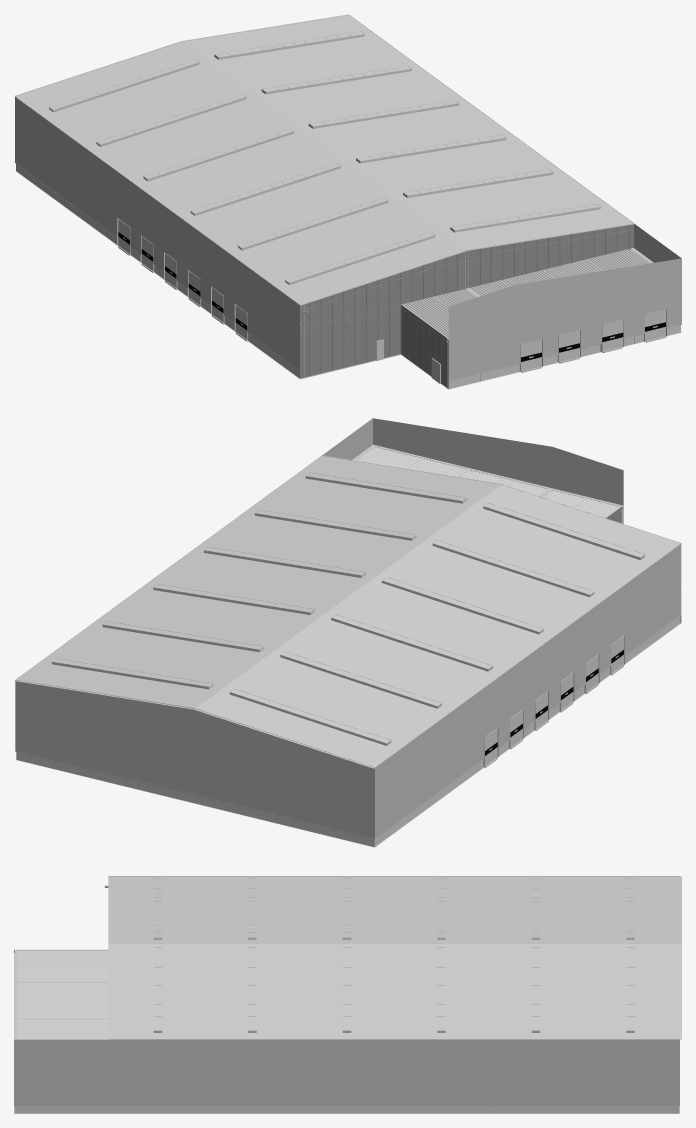
File: Building.fbx
The picture shows the model from 3 angles, top to bottom: view 1: azimuth 30°, elevation 25°; view 2: azimuth 150°, elevation 25°; view 3: azimuth 270°, elevation 25°; orthographic projection. The views are drawn at different scales.
Visible parts, largest first — view 1: CL_Ceiling_001, Bldg_WallPanel_001, Bldg_WallPalnel_002, CL_Tplight_Glass_001, CL_Toplight_Wall_001, Shutter_001, CL_TopLight_Frame_001, Bldg_BentPlate_001, Bldg_WallConcrete_001, Bldg_SteelFrame_S_001, Bldg_SteelFrame_L_001; view 2: CL_Ceiling_001, Bldg_WallPanel_001, CL_Tplight_Glass_001, CL_Toplight_Wall_001, Bldg_WallConcrete_001, CL_TopLight_Frame_001, Bldg_SteelFrame_S_001, Bldg_BentPlate_001, Shutter_001, Bldg_SteelFrame_L_010; view 3: CL_Ceiling_001, Bldg_WallPanel_001, Bldg_BentPlate_001, CL_Tplight_Glass_001, Bldg_WallConcrete_001, CL_TopLight_Frame_001, Bldg_SteelFrame_S_001, Bldg_SteelFrame_L_010.
Part boxes in pixels (left/top/right/bottom): CL_Ceiling_001: left=14, top=14, right=634, bottom=305; Bldg_WallPanel_001: left=15, top=19, right=681, bottom=381; Bldg_WallPalnel_002: left=300, top=224, right=633, bottom=387; CL_Tplight_Glass_001: left=49, top=31, right=599, bottom=282; CL_Toplight_Wall_001: left=49, top=34, right=600, bottom=284; Shutter_001: left=118, top=219, right=665, bottom=371; CL_TopLight_Frame_001: left=49, top=31, right=600, bottom=283; Bldg_BentPlate_001: left=403, top=249, right=649, bottom=337; Bldg_WallConcrete_001: left=15, top=165, right=681, bottom=389; Bldg_SteelFrame_S_001: left=15, top=15, right=681, bottom=370; Bldg_SteelFrame_L_001: left=303, top=224, right=632, bottom=340; CL_Ceiling_001: left=14, top=455, right=681, bottom=768; Bldg_WallPanel_001: left=15, top=418, right=681, bottom=838; CL_Tplight_Glass_001: left=52, top=473, right=644, bottom=743; CL_Toplight_Wall_001: left=51, top=476, right=645, bottom=745; Bldg_WallConcrete_001: left=15, top=616, right=680, bottom=847; CL_TopLight_Frame_001: left=52, top=472, right=645, bottom=743; Bldg_SteelFrame_S_001: left=15, top=455, right=681, bottom=827; Bldg_BentPlate_001: left=356, top=447, right=619, bottom=517; Shutter_001: left=485, top=636, right=623, bottom=765; Bldg_SteelFrame_L_010: left=352, top=444, right=623, bottom=520; CL_Ceiling_001: left=108, top=876, right=681, bottom=1039; Bldg_WallPanel_001: left=14, top=876, right=679, bottom=1105; Bldg_BentPlate_001: left=17, top=950, right=108, bottom=1039; CL_Tplight_Glass_001: left=154, top=878, right=634, bottom=1030; Bldg_WallConcrete_001: left=14, top=1106, right=679, bottom=1113; CL_TopLight_Frame_001: left=153, top=878, right=634, bottom=1030; Bldg_SteelFrame_S_001: left=14, top=953, right=679, bottom=1095; Bldg_SteelFrame_L_010: left=14, top=949, right=108, bottom=1039.
Size of the model in its own units: 3766 by 980 by 6503.
